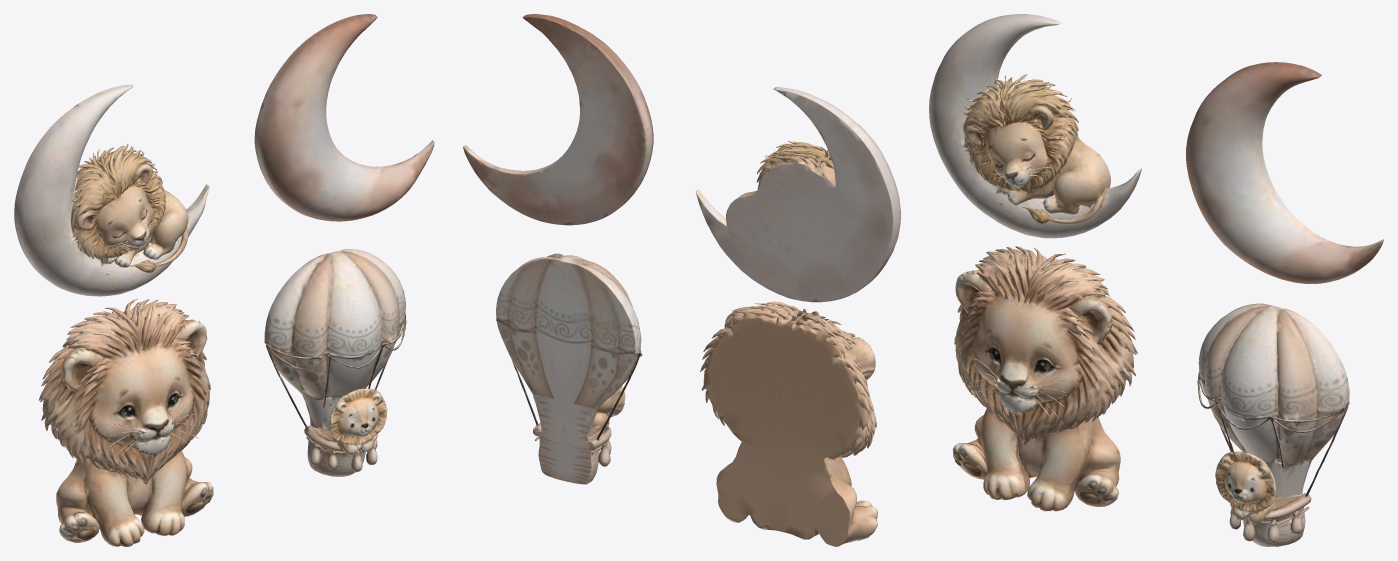
The picture shows the model from 3 angles, left to right: view 1: azimuth 30°, elevation 25°; view 2: azimuth 150°, elevation 25°; view 3: azimuth 330°, elevation 25°; orthographic projection. The views are drawn at different scales.
Visible parts, largest first — view 1: Mesh 2, Mesh 1, Mesh 4, Mesh 3; view 2: Mesh 2, Mesh 1, Mesh 4, Mesh 3; view 3: Mesh 2, Mesh 1, Mesh 4, Mesh 3.
Boxes of the visible parts, x1,y1,x2,y2 form: Mesh 2: (39, 298, 213, 546); Mesh 1: (14, 84, 209, 296); Mesh 4: (264, 249, 406, 476); Mesh 3: (254, 14, 434, 221); Mesh 2: (700, 301, 878, 546); Mesh 1: (695, 87, 900, 302); Mesh 4: (496, 253, 642, 484); Mesh 3: (463, 14, 653, 225); Mesh 2: (953, 246, 1137, 511); Mesh 1: (929, 14, 1141, 238); Mesh 4: (1197, 303, 1349, 546); Mesh 3: (1186, 62, 1383, 283).
Size of the model in its own units: 1.86 by 1.9 by 0.3064.
4 materials, 4 textured.
